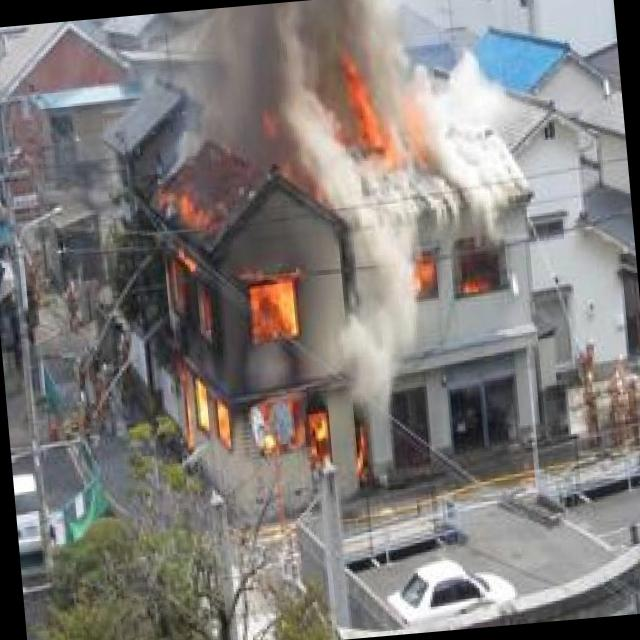Fire: (341, 54, 434, 175), (137, 168, 250, 247), (244, 275, 300, 340), (310, 408, 336, 467), (350, 420, 373, 480), (413, 253, 440, 304), (190, 376, 213, 430), (454, 271, 496, 298), (217, 407, 230, 442)
Smoke: (189, 0, 526, 248)
